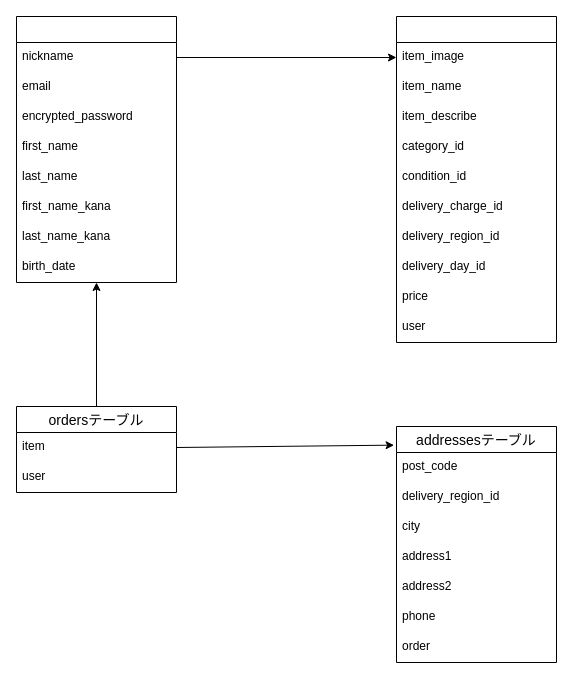
Some shapes in this 573 by 679 pixel diagram are drawn without their labels. Each missing label, with the box of its shape:
itemsテーブル: (396, 16, 556, 342)
usersテーブル: (16, 16, 176, 282)
